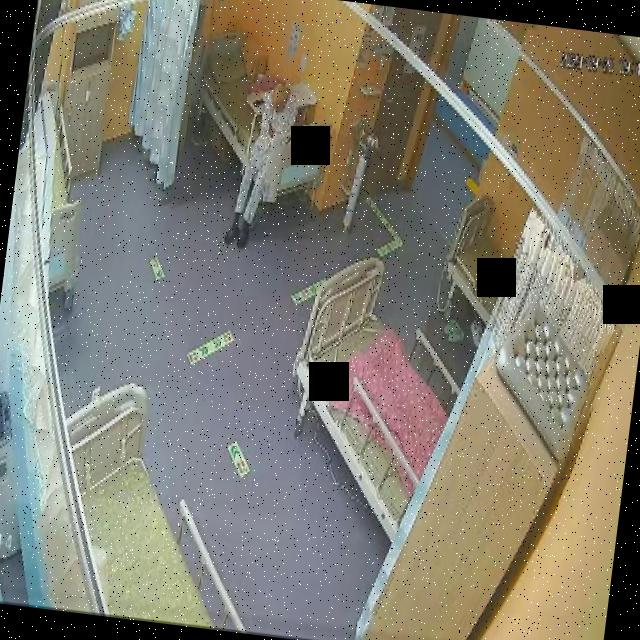bed: (41, 379, 272, 633), (276, 252, 466, 544), (178, 26, 342, 210), (440, 191, 518, 329)
patient: (222, 74, 302, 253)
sit: (224, 78, 301, 253)
